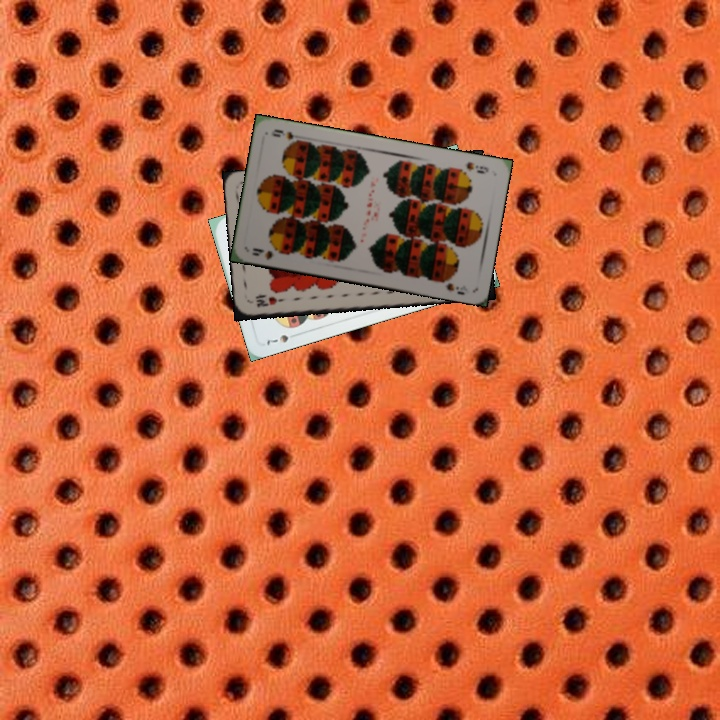H10: (251, 292, 286, 310)
S7: (262, 330, 291, 348)
S9: (248, 244, 288, 262), (462, 157, 491, 176)
